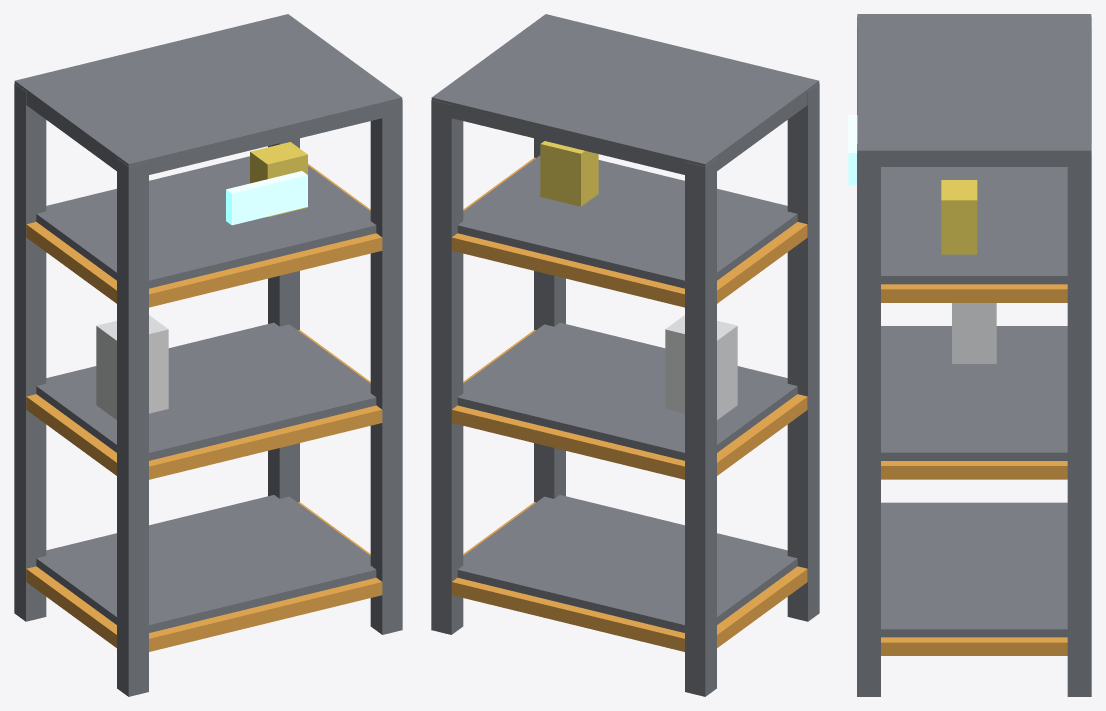
File: drone-rack-tower.glb
3 views of the same model, side by side, from view 1: azimuth 30°, elevation 25°; view 2: azimuth 150°, elevation 25°; view 3: azimuth 270°, elevation 25° (orthographic). The views are drawn at different scales.
Parts seen in each view (by area): view 1: drone-rack-tower; view 2: drone-rack-tower; view 3: drone-rack-tower.
Boxes of the visible parts, x1,y1,x2,y2 form: drone-rack-tower: (14,14,402,696); drone-rack-tower: (431,14,819,696); drone-rack-tower: (848,14,1091,696).
Size of the model in its own units: 1.08 by 2.01 by 0.8111.
